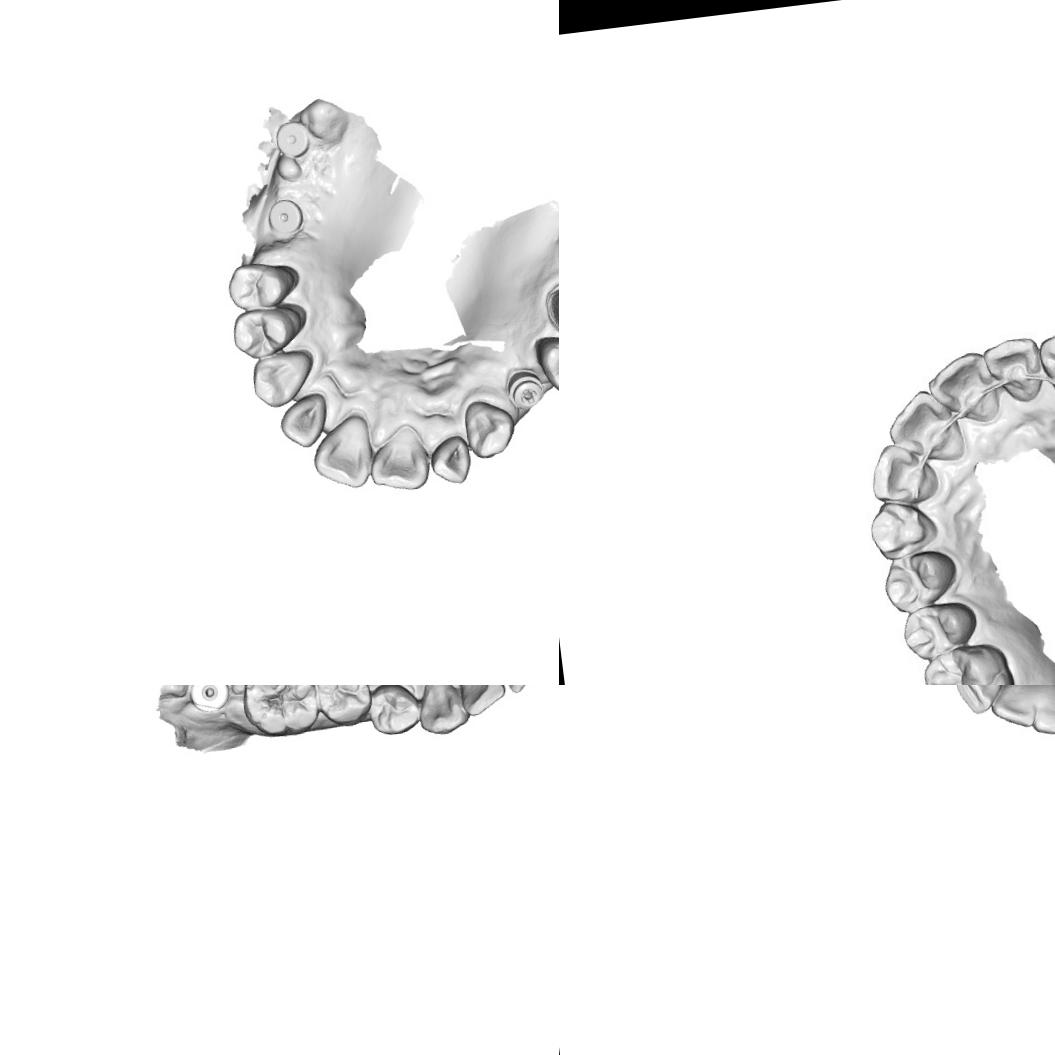canine: (246, 344, 324, 412), (868, 495, 946, 562), (458, 392, 520, 462), (412, 685, 473, 738), (951, 685, 1015, 719), (1034, 321, 1055, 406)
crown: (542, 274, 559, 358)
implant: (261, 194, 307, 241), (270, 116, 316, 162), (185, 685, 233, 718)
implant_plus: (503, 365, 549, 415)
incisor: (883, 386, 966, 468), (924, 350, 1002, 430), (307, 413, 384, 494), (362, 416, 436, 498), (866, 438, 942, 506), (272, 386, 336, 452), (986, 338, 1042, 408), (424, 426, 481, 492), (985, 685, 1039, 734), (454, 685, 508, 719), (1023, 685, 1055, 739)
molar: (235, 685, 324, 742), (918, 639, 1018, 685)
premolar: (877, 547, 961, 615), (895, 599, 978, 663), (228, 300, 308, 363), (221, 256, 304, 316), (362, 685, 425, 738), (313, 685, 376, 731), (531, 328, 559, 400)
